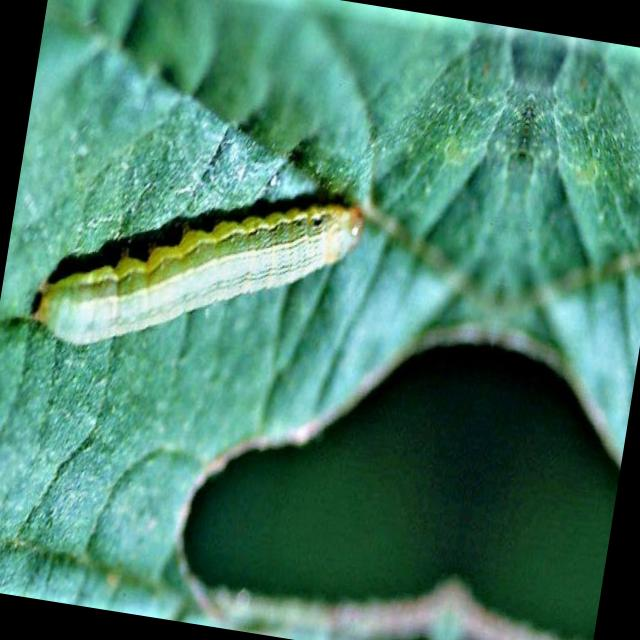Armyworm: (10, 125, 394, 417)
